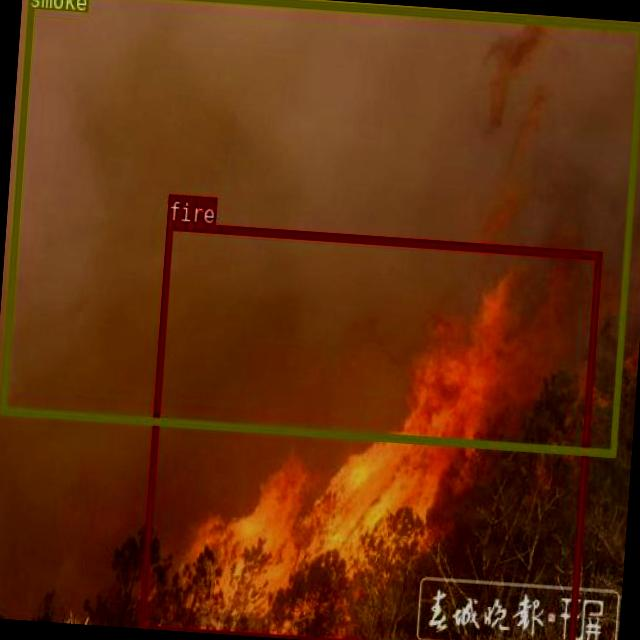fire: (137, 219, 600, 640)
smoke: (0, 0, 640, 455)
